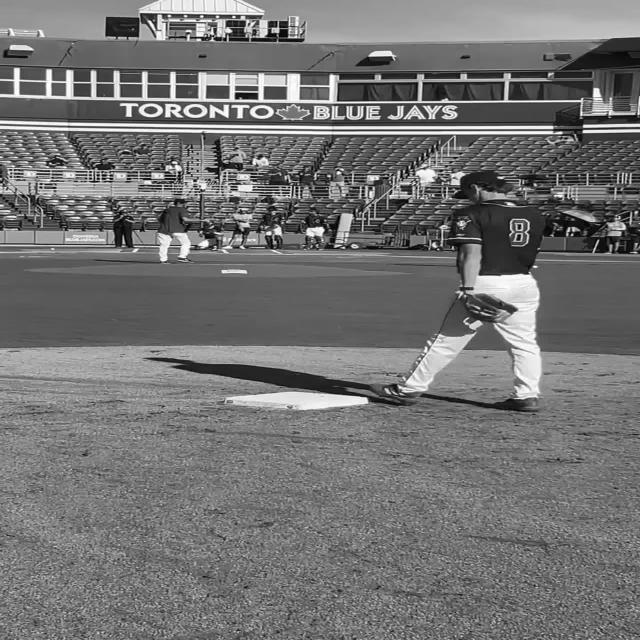base: (224, 394, 368, 408)
baseball_glove: (458, 291, 518, 323)
shoe: (368, 382, 422, 405), (493, 397, 541, 412), (176, 257, 194, 263), (160, 260, 170, 264)
